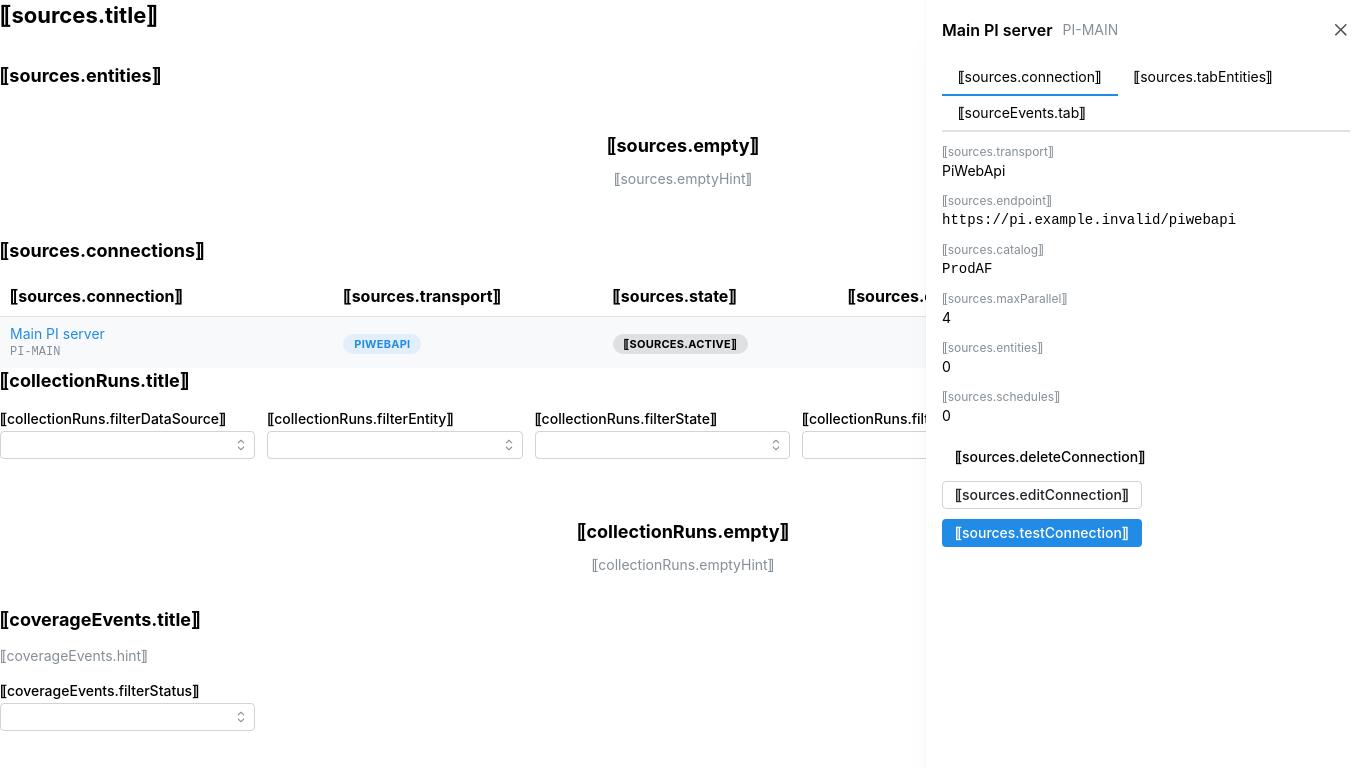
Test: DataSourceDrawer: Esc закриває лише верхній діалог › Esc у підтвердженні видалення закриває підтвердження, шторка лишається; другий Esc — шторку
The image size is (1366, 768).
Click the button "⟦sources.deleteConnection⟧". click: (1050,457)
box: [942,443,1158,471]
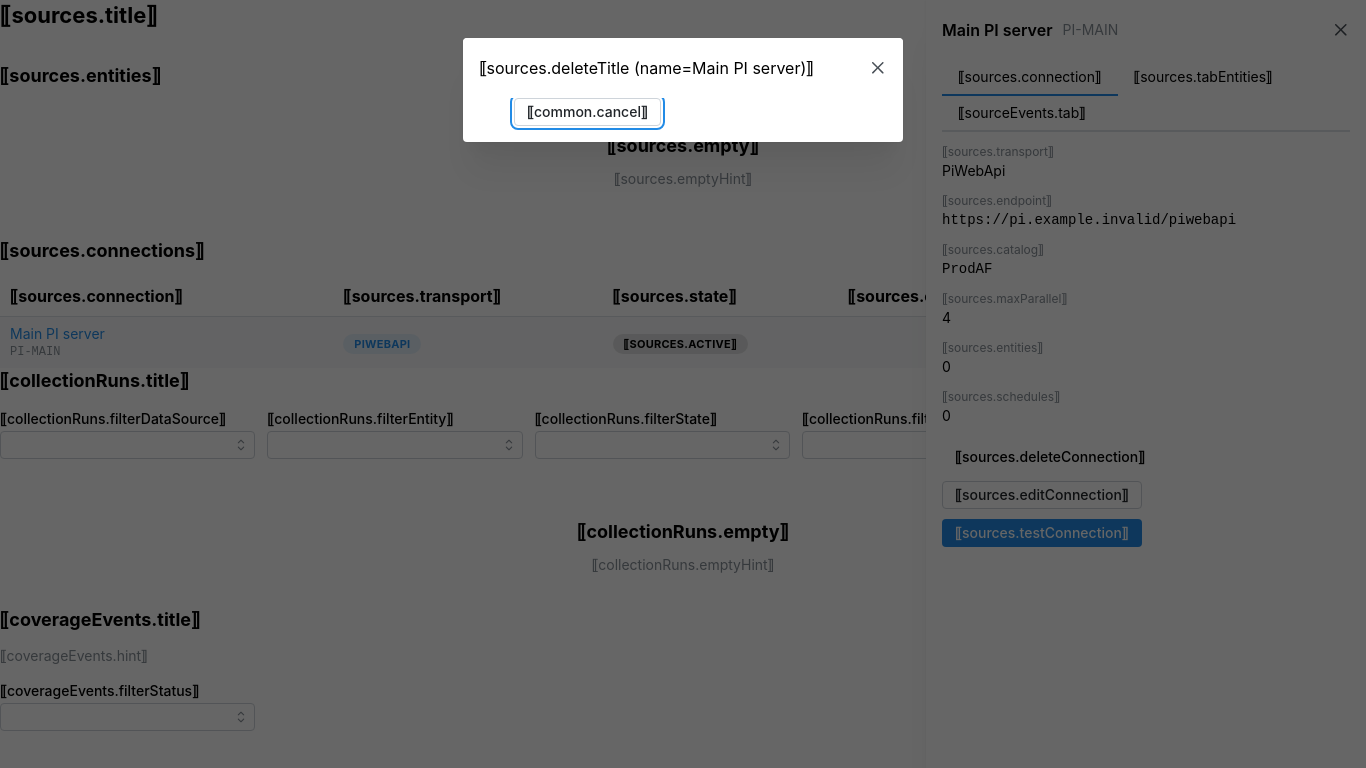
Expected: the number of dialogs is 2, [926,0,1365,767]; [463,38,903,142]
Press Escape in the button "⟦common.cancel⟧", box [514,98,661,126]
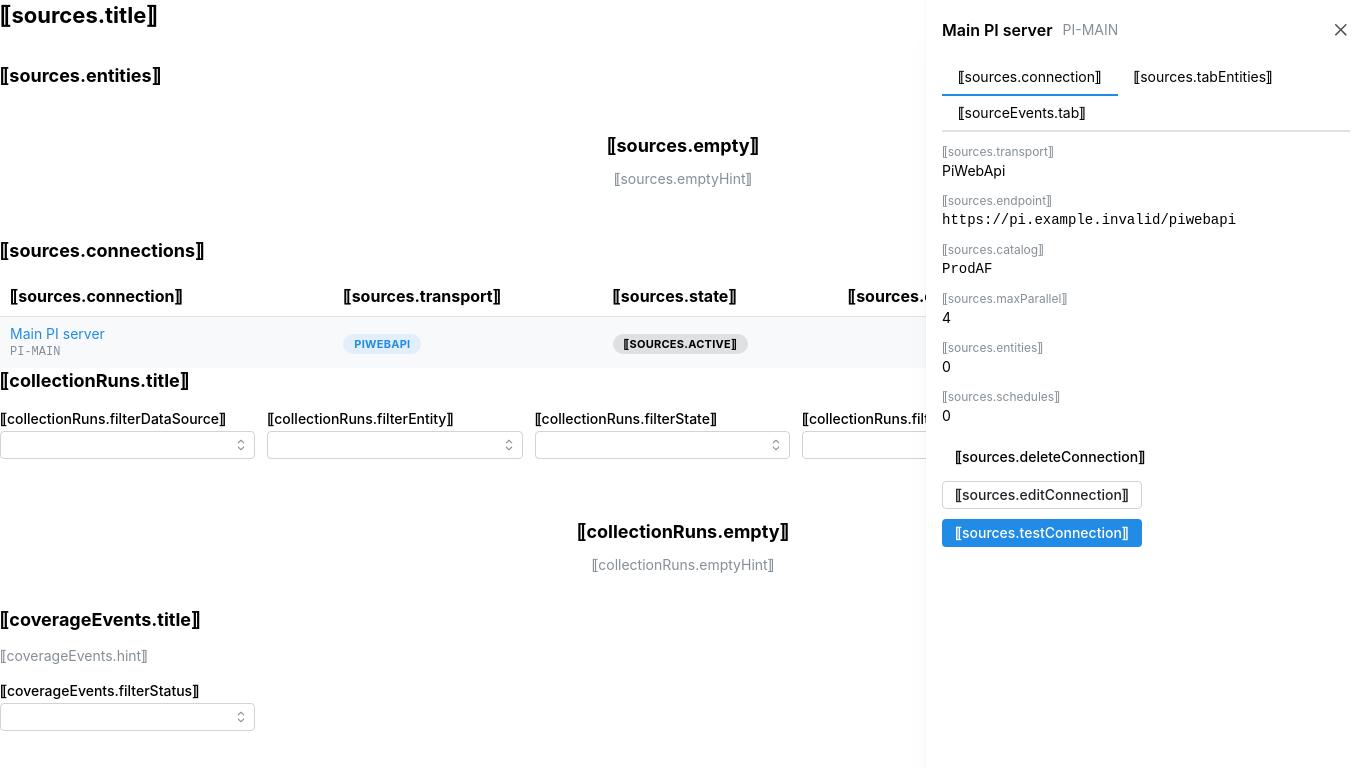
Expected: the number of dialogs is 1, [926,0,1365,767]
Press Escape in the heading "⟦sources.title⟧", box [0,0,158,31]
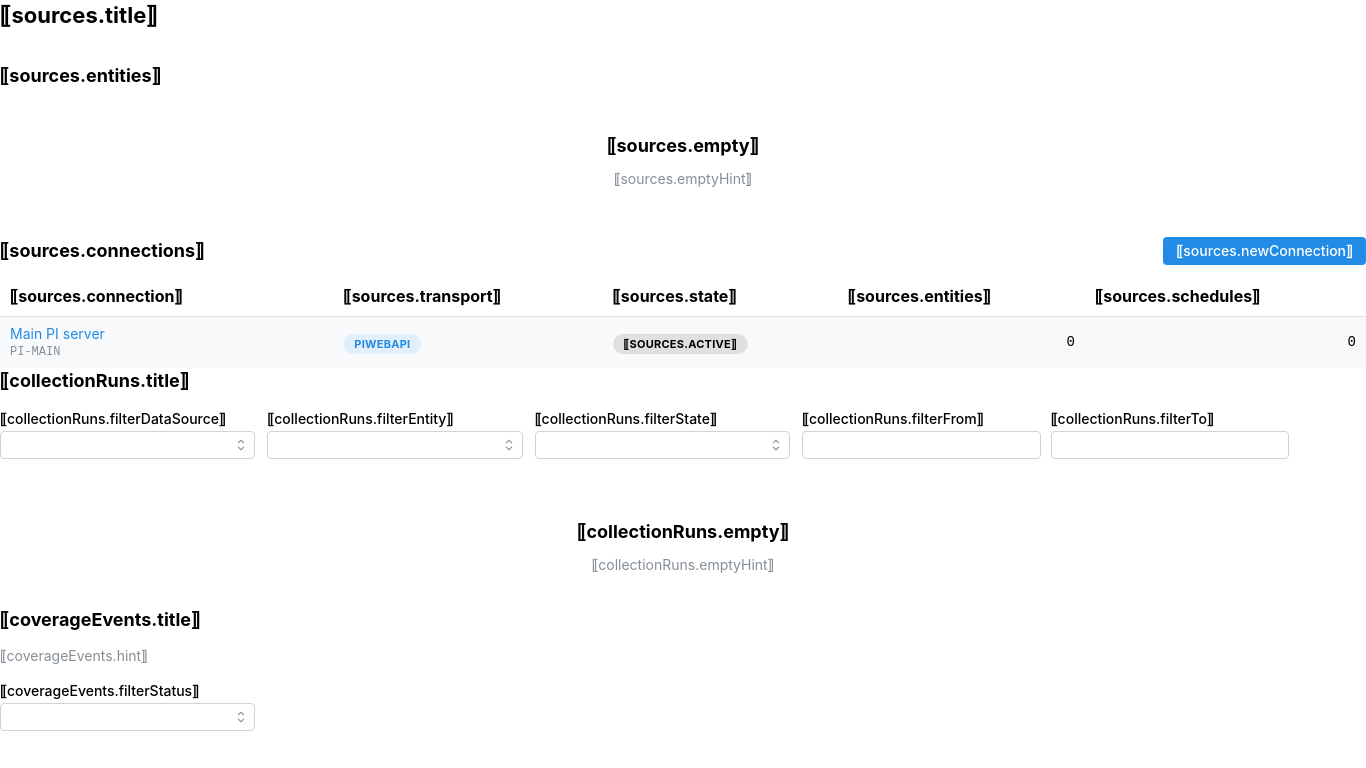
Expected: the dialog is gone
